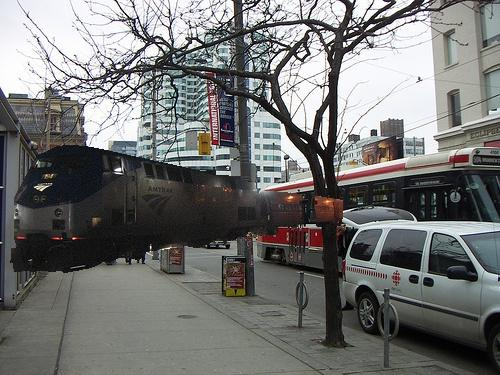tampered: (11, 146, 343, 273)
